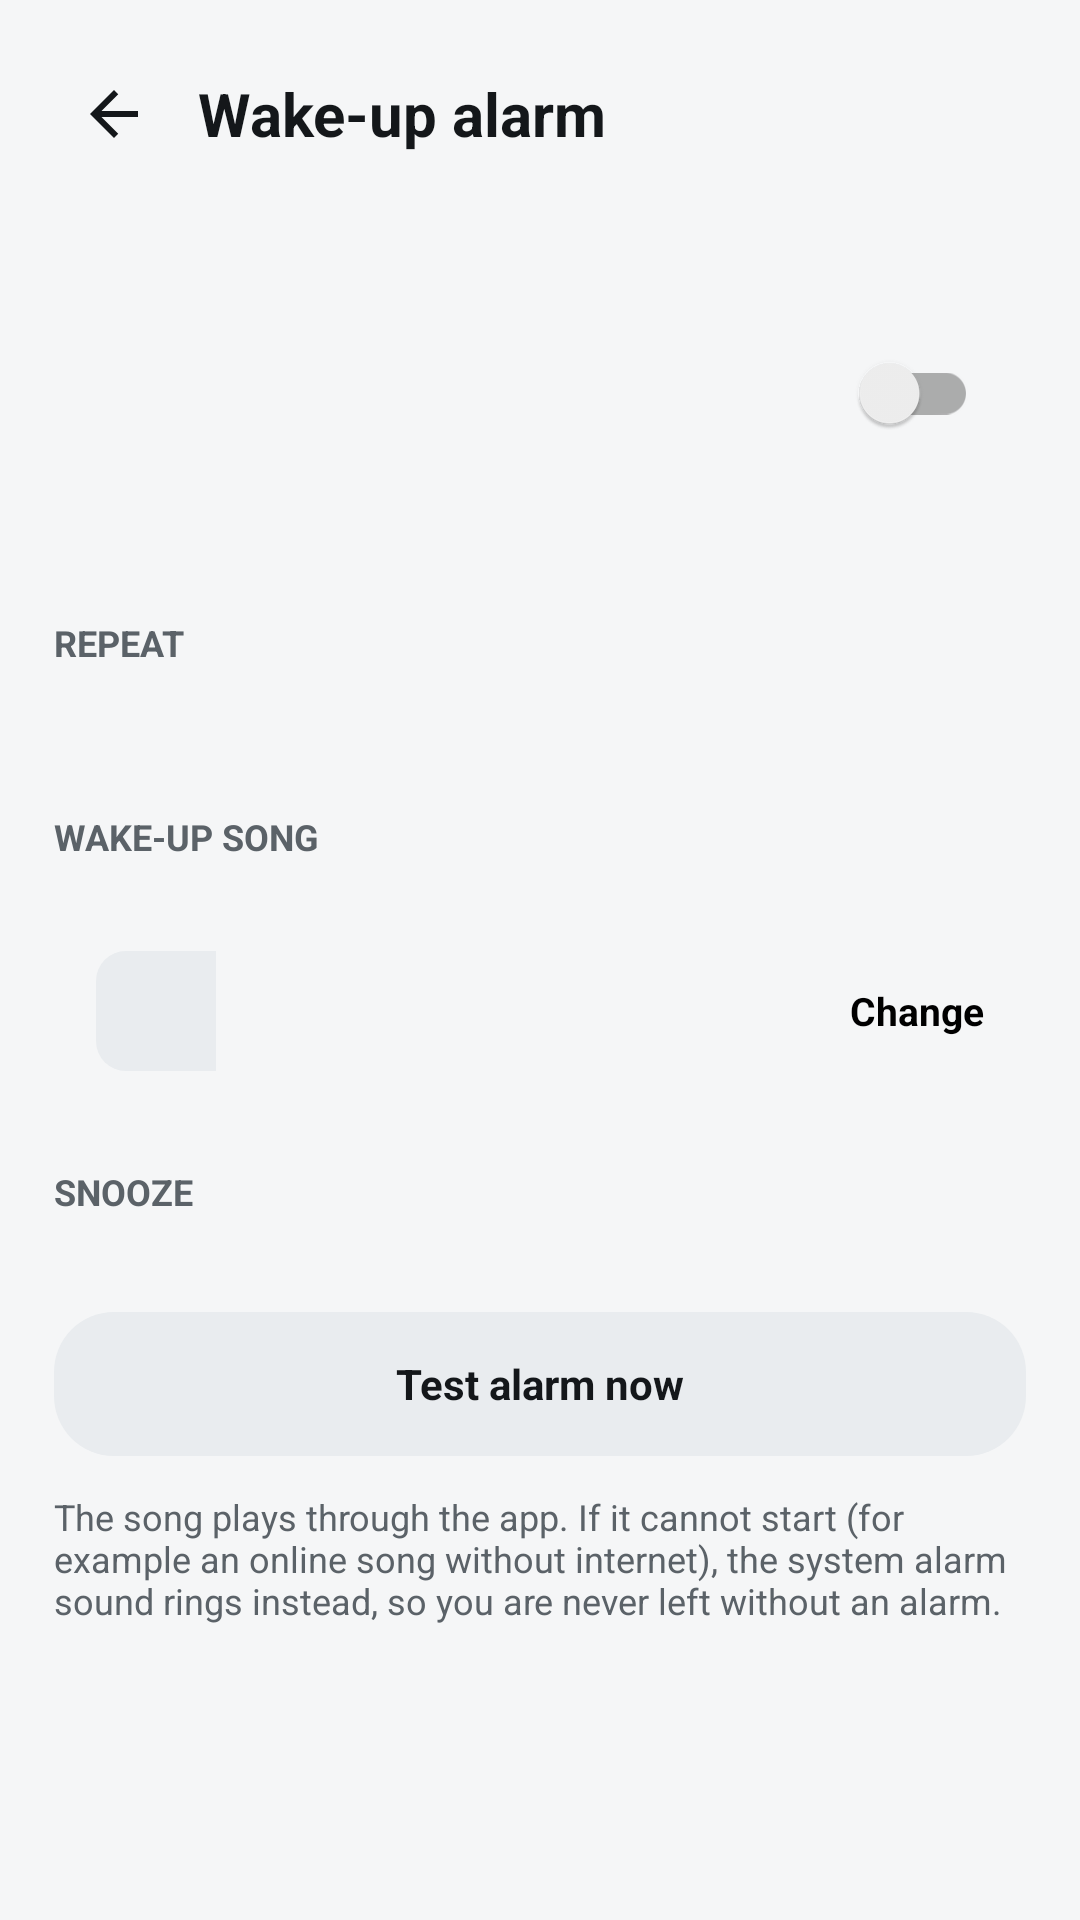

Point at icon controls on the screen. Image size 1080*1920, points as (x=x, y=y).
Back: (x=114, y=114)
